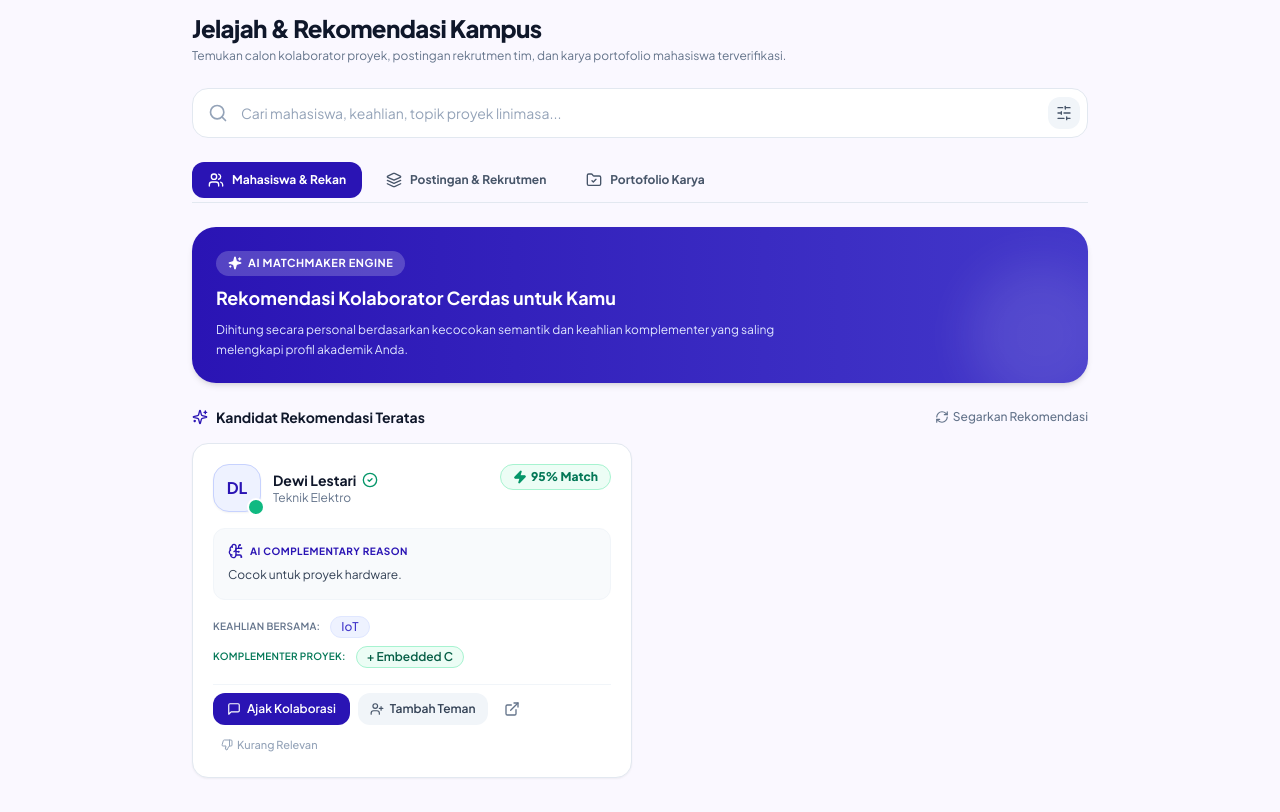
M10 Explore & Search Frontend Tests (/explore) › sends friendship request from recommendation card using POST /friendships
Expected: the link "Dewi Lestari" is shown, [273,470,356,490]
Click the button "Tambah Teman" at [423, 709], box [358,693,488,725]
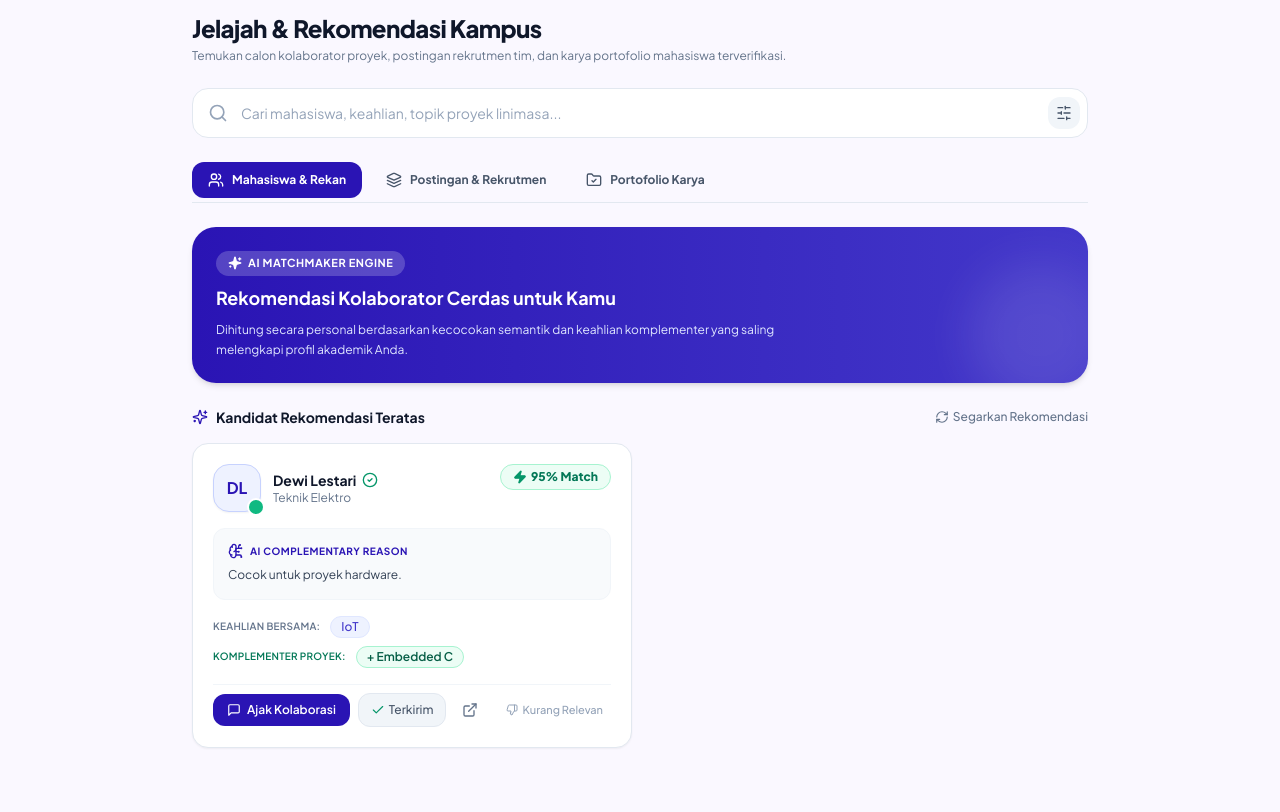
Result: the text "Terkirim" is shown at [389,702,433,718]
